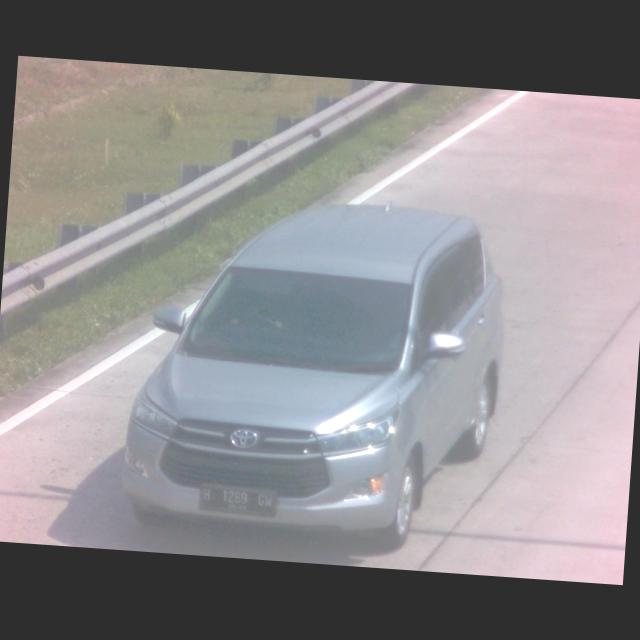plate: (195, 481, 278, 519)
